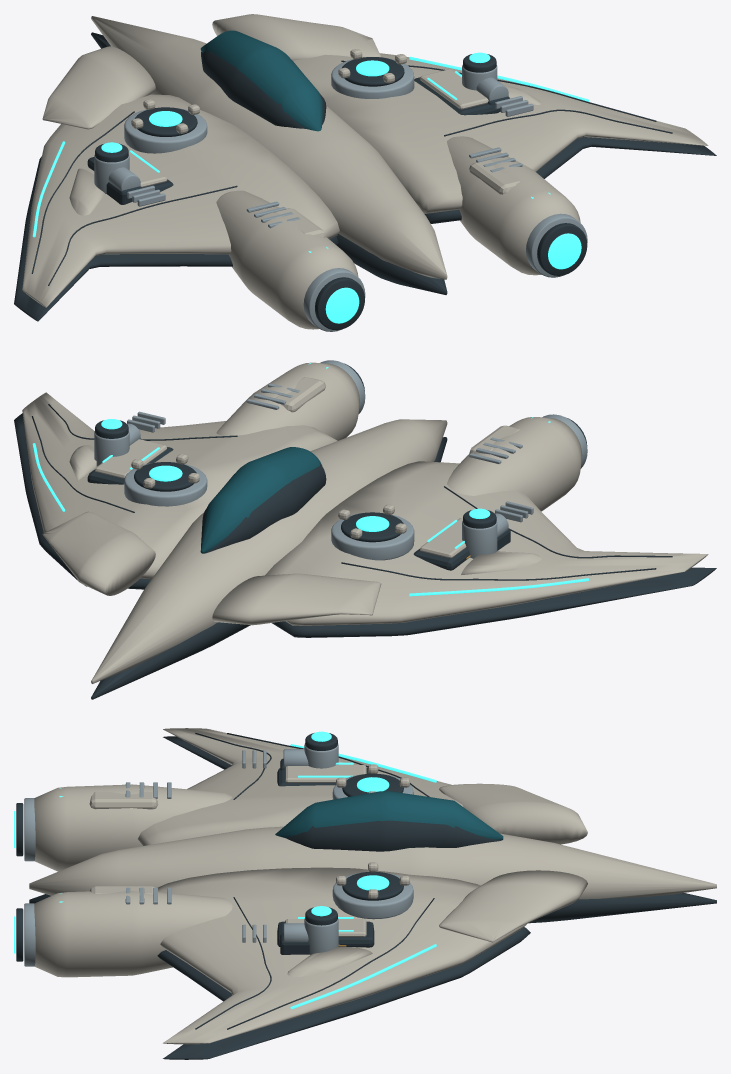
The model's file is escort-1.glb.
The picture shows the model from 3 angles, top to bottom: view 1: azimuth 30°, elevation 25°; view 2: azimuth 150°, elevation 25°; view 3: azimuth 270°, elevation 25°; orthographic projection. The views are drawn at different scales.
Parts seen in each view (by area): view 1: SM_Wing_Left, SM_Hull, SM_Wing_Right, SM_Engine_Left, SM_Engine_Right, SM_Shield_Left, SM_Shield_Right, SM_Stage03, SM_Stage04, SM_Stage01, SM_Stage02, SM_Bay_Right (+1 smaller); view 2: SM_Wing_Left, SM_Hull, SM_Wing_Right, SM_Engine_Left, SM_Engine_Right, SM_Shield_Left, SM_Shield_Right, SM_Stage04, SM_Stage03, SM_Stage02, SM_Bay_Right, SM_Bay_Left (+1 smaller); view 3: SM_Wing_Right, SM_Hull, SM_Wing_Left, SM_Engine_Right, SM_Engine_Left, SM_Shield_Right, SM_Stage04, SM_Stage03, SM_Shield_Left, SM_Stage02, SM_Stage01, SM_Bay_Left (+1 smaller).
Boxes of the visible parts, box(x1,y1,x2,y2) form: SM_Wing_Left: box(14, 46, 339, 321); SM_Hull: box(87, 16, 499, 294); SM_Wing_Right: box(212, 14, 716, 223); SM_Engine_Left: box(216, 190, 365, 331); SM_Engine_Right: box(447, 136, 587, 277); SM_Shield_Left: box(124, 99, 207, 153); SM_Shield_Right: box(331, 49, 414, 98); SM_Stage03: box(127, 96, 533, 237); SM_Stage04: box(94, 52, 497, 193); SM_Stage01: box(106, 77, 509, 204); SM_Stage02: box(69, 84, 541, 215); SM_Bay_Right: box(420, 69, 488, 109); SM_Wing_Left: box(212, 461, 716, 637); SM_Hull: box(87, 419, 469, 699); SM_Wing_Right: box(14, 392, 337, 595); SM_Engine_Left: box(447, 414, 587, 511); SM_Engine_Right: box(216, 360, 365, 440); SM_Shield_Left: box(331, 504, 414, 560); SM_Shield_Right: box(124, 454, 207, 506); SM_Stage04: box(94, 419, 497, 558); SM_Stage03: box(127, 377, 533, 522); SM_Stage02: box(69, 445, 541, 574); SM_Bay_Right: box(95, 439, 167, 478); SM_Bay_Left: box(420, 518, 466, 558); SM_Wing_Right: box(157, 867, 587, 1059); SM_Hull: box(29, 762, 716, 947); SM_Wing_Left: box(138, 728, 587, 845); SM_Engine_Right: box(14, 887, 232, 977); SM_Engine_Left: box(14, 782, 232, 871); SM_Shield_Right: box(332, 862, 413, 919); SM_Stage04: box(304, 731, 338, 954); SM_Stage03: box(89, 750, 266, 942); SM_Shield_Left: box(332, 764, 413, 799); SM_Stage02: box(287, 761, 372, 977); SM_Stage01: box(280, 749, 309, 954); SM_Bay_Left: box(285, 765, 366, 782).
Bounding box in the file's own units: 8.86 × 1.62 × 8.18.
